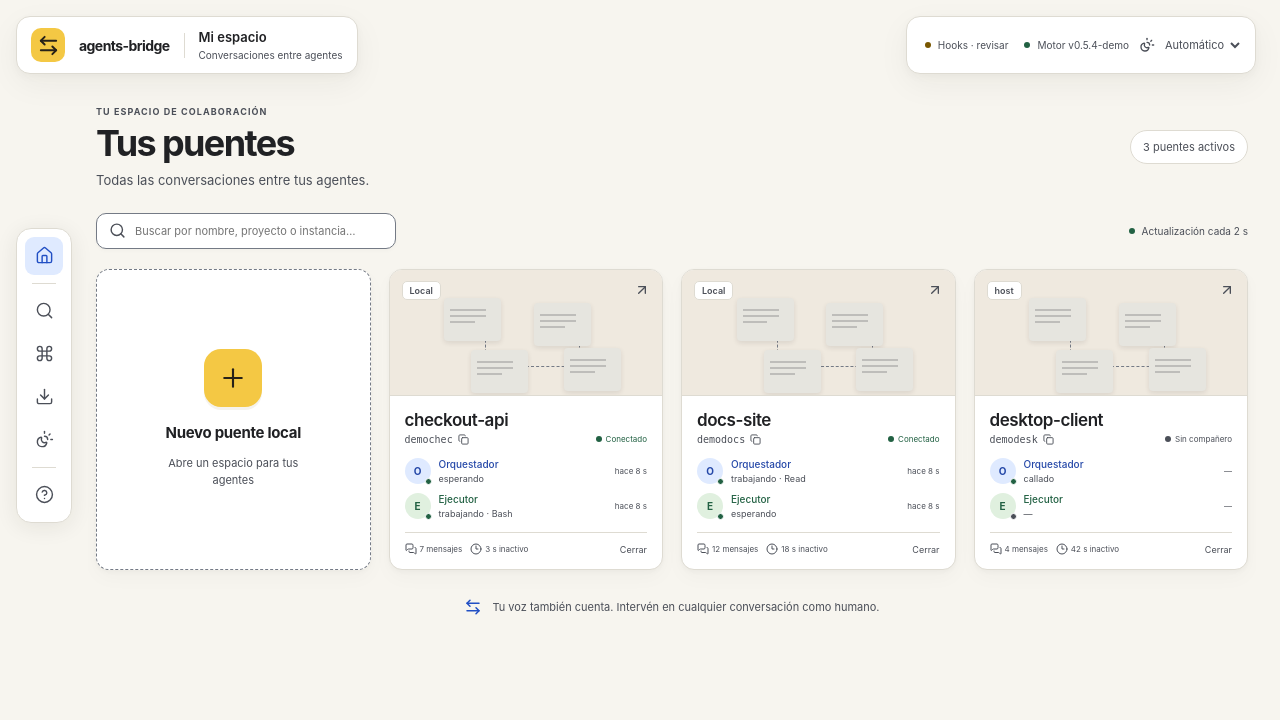
Test: a rejected intervention remains visible and keeps the composer draft
The image size is (1280, 720).
Click the button with aria-label "Abrir checkout-api". click: coordinates (526, 333)
box: [390, 270, 662, 396]
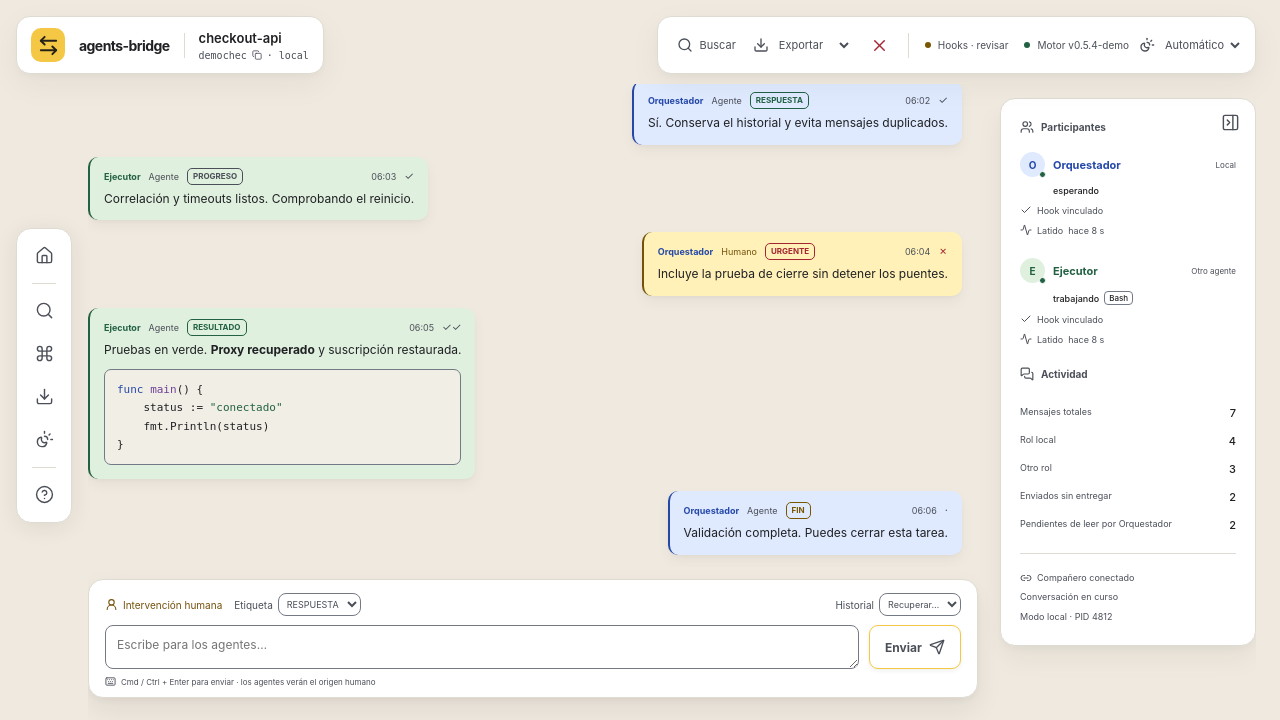
Type "Reintentar esta prueba" into the text box named "Mensaje". click: coordinates (482, 647)
box: [105, 625, 859, 669]
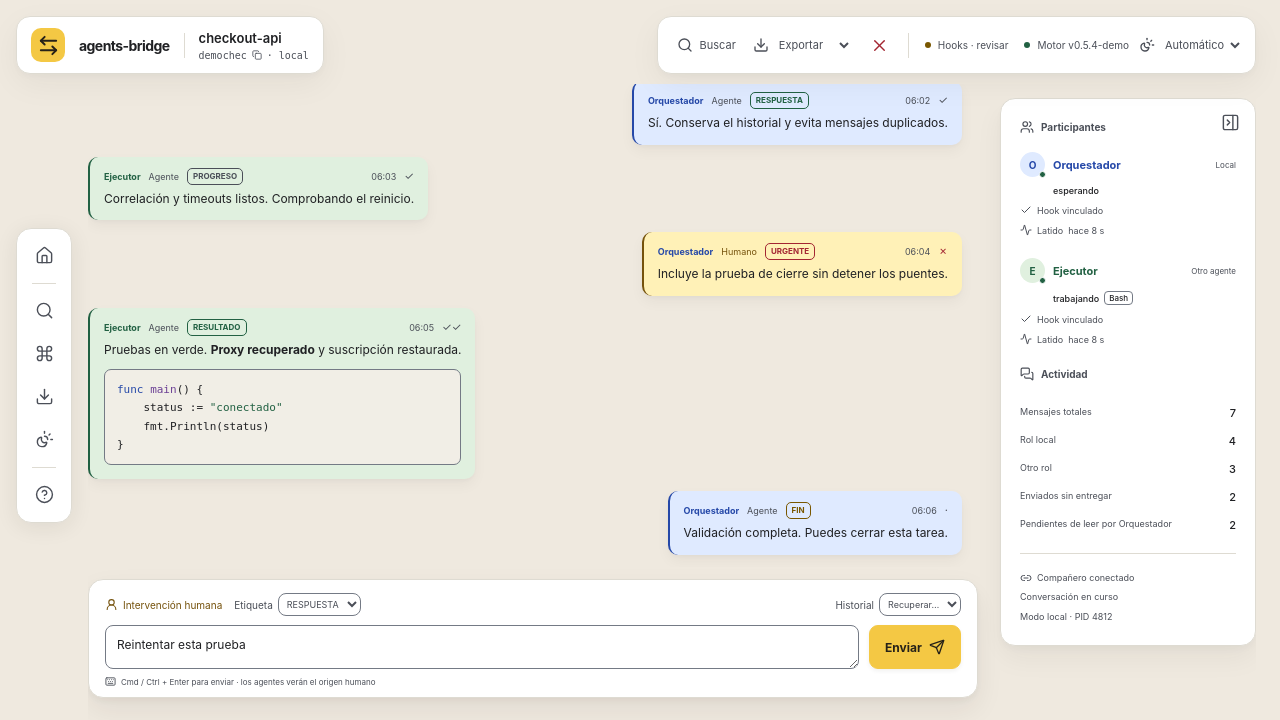
Press Enter in the text box named "Mensaje", box [105, 625, 859, 669]
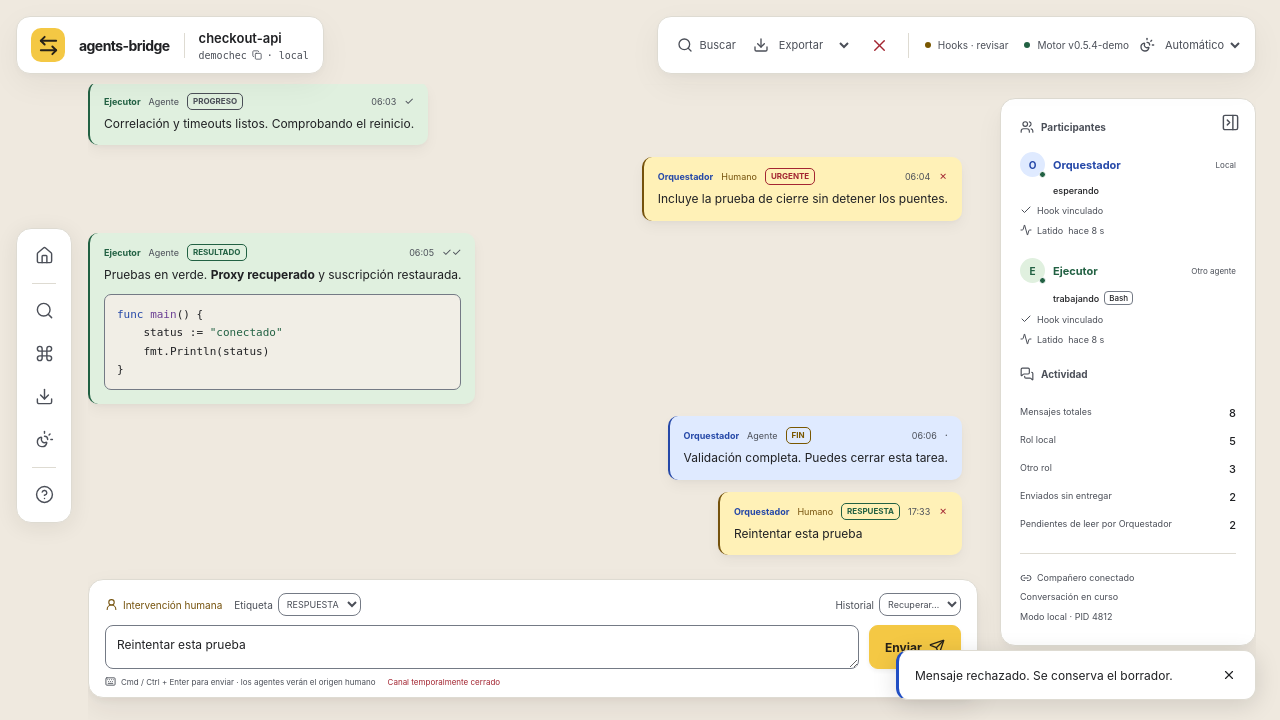
Expected: the element named "Orquestador, RESPUESTA, Rechazado" is shown, [718, 492, 962, 555]
